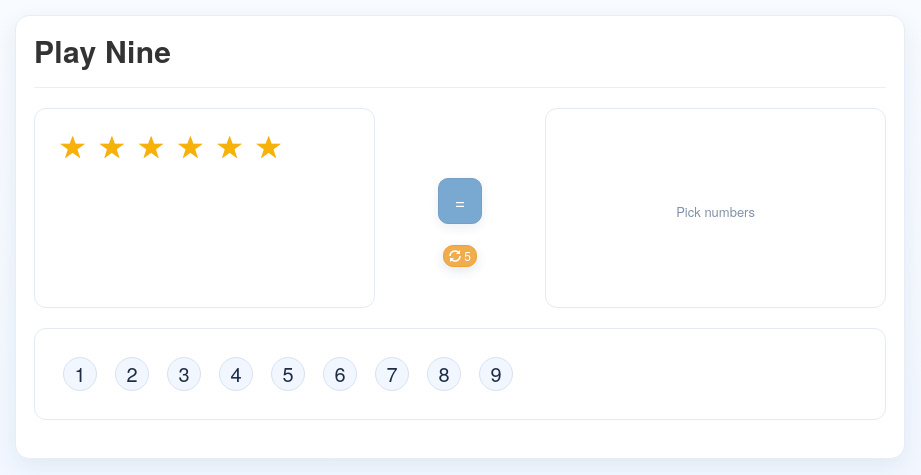
Test case: Game › enables the check button only once a number is selected
Check: the button named "Check answer" is disabled, box [438,178,482,224]
Click the 2nd button "5". click: (288, 374)
box: [271,357,305,391]
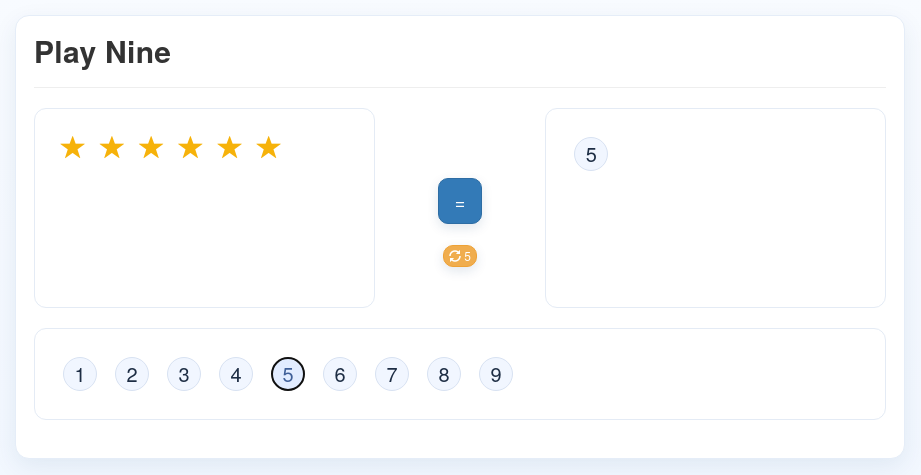
Check: the button named "Check answer" is enabled, box [438,178,482,224]
